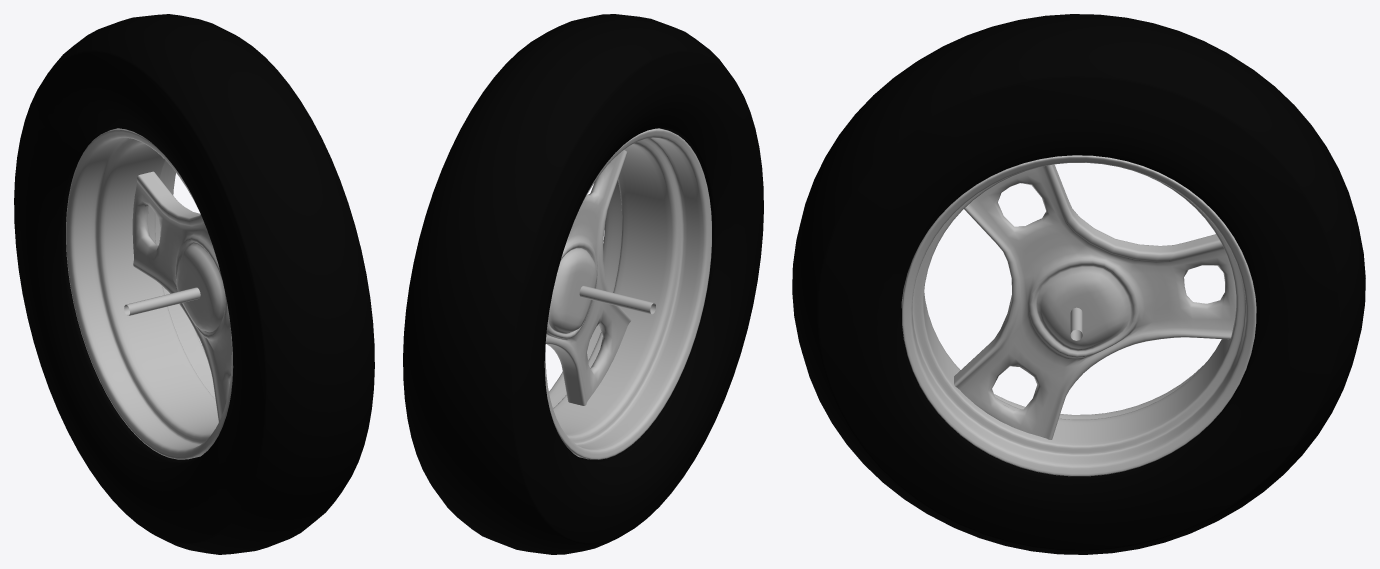
The model's file is front_wheel.glb.
The picture shows the model from 3 angles, left to right: view 1: azimuth 30°, elevation 25°; view 2: azimuth 150°, elevation 25°; view 3: azimuth 270°, elevation 25°; orthographic projection. The views are drawn at different scales.
Visible parts, largest first — view 1: front_tire, front_rim; view 2: front_tire, front_rim; view 3: front_tire, front_rim.
Boxes of the visible parts, left/top/right/bottom form: front_tire: left=14, top=14, right=374, bottom=554; front_rim: left=66, top=128, right=233, bottom=459; front_tire: left=403, top=14, right=763, bottom=554; front_rim: left=544, top=128, right=711, bottom=459; front_tire: left=792, top=14, right=1365, bottom=554; front_rim: left=901, top=155, right=1256, bottom=476.
Size of the model in its own units: 0.7281 by 2.31 by 2.31.
2 materials, 2 textured.
